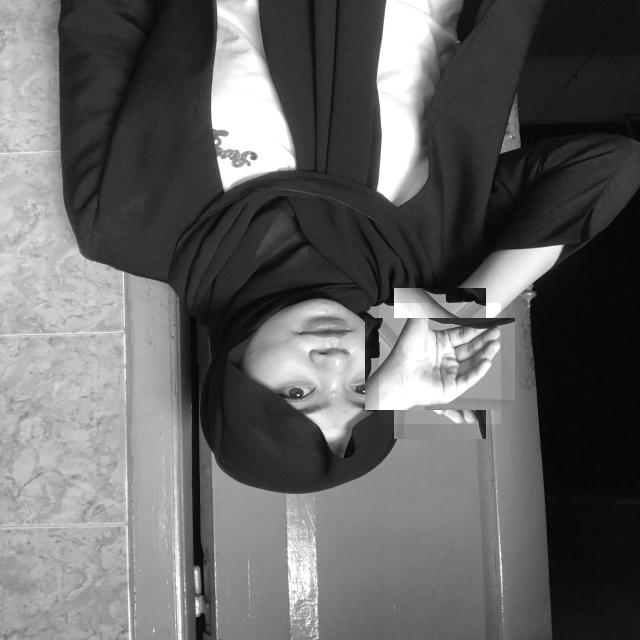mendengar: (379, 303, 501, 424)
